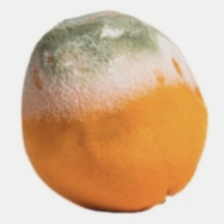orange: (24, 12, 222, 193)
